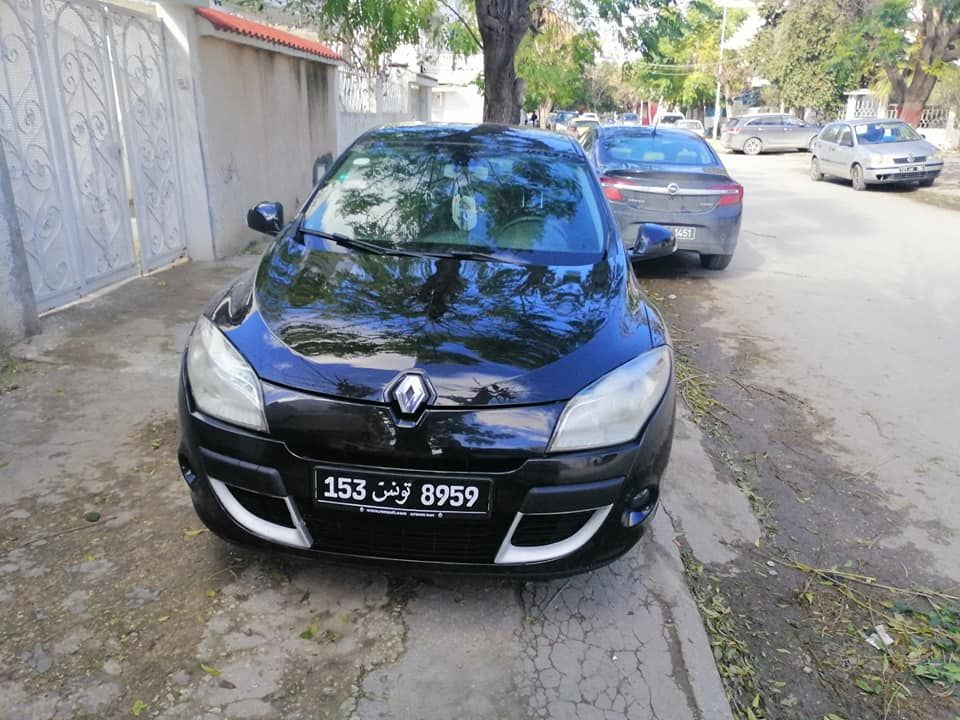LP: (312, 466, 491, 516)
